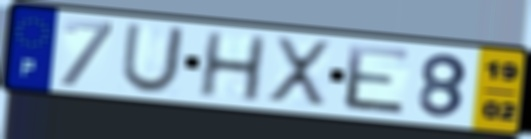7: (59, 16, 116, 88)
8: (417, 51, 468, 120)
E: (342, 42, 414, 118)
H: (195, 30, 269, 105)
U: (117, 22, 188, 96)
X: (264, 34, 334, 111)
